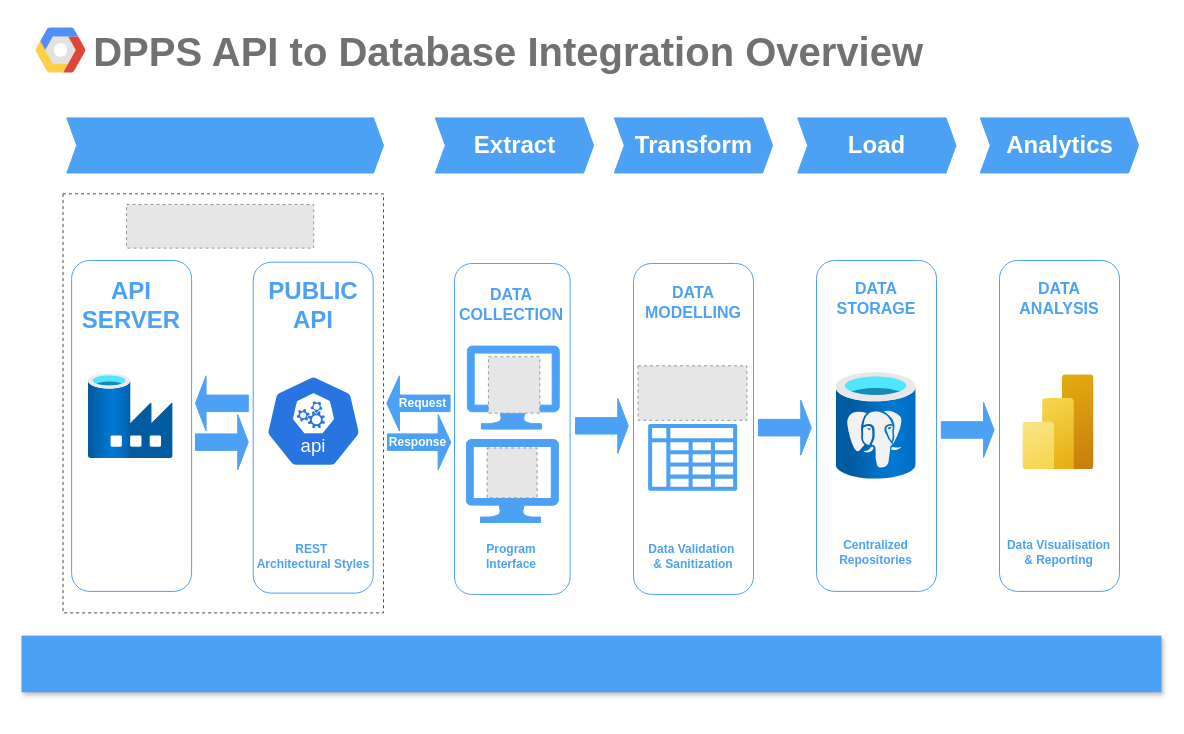
Image size: 1184x734. Some labels were removed from this diagram. Grey dashed boxes stand in for pictures. Each missing label, with the centre of its shape:
Architecture: Real-Time Data Access (Extract . Transform . Load): point (592, 665)
Data Sources: point (225, 145)
